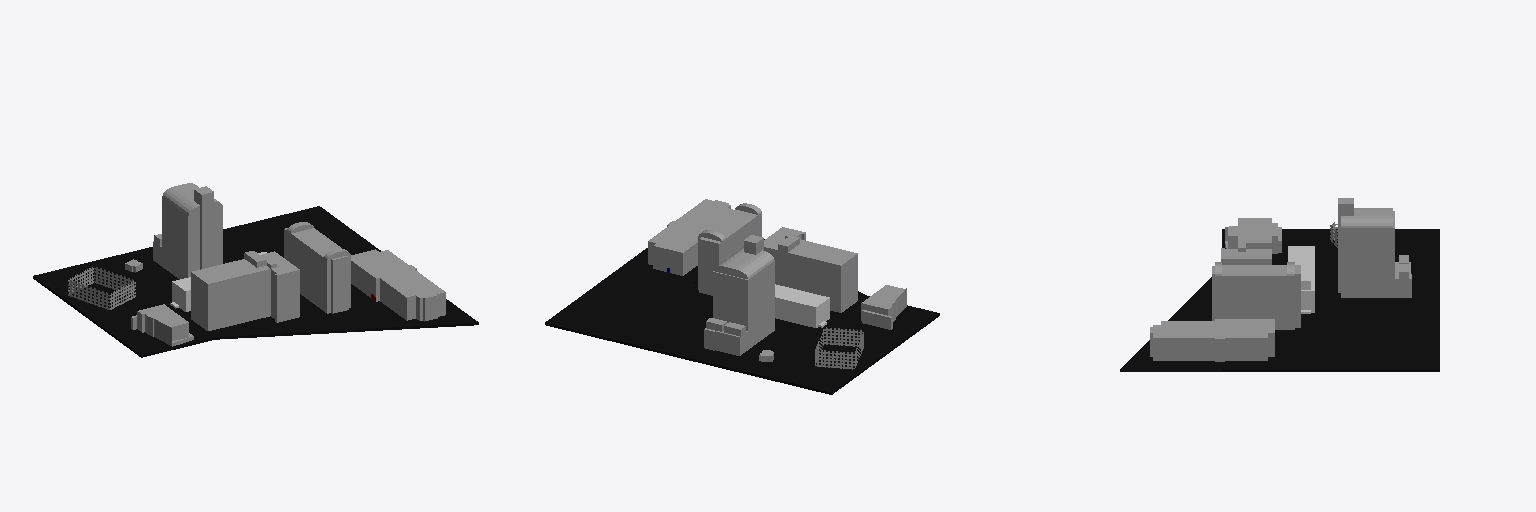
The model's file is free_map9.obj.
The picture shows the model from 3 angles: view 1: azimuth 30°, elevation 25°; view 2: azimuth 150°, elevation 25°; view 3: azimuth 270°, elevation 25°; orthographic projection.
Parts seen in each view (by area): view 1: Cube.009, Cube.004, Cube.006, Cube.001, Cube.002, Cube.005, Cube.008, Cube.003; view 2: Cube.009, Cube.006, Cube.004, Cube.001, Cube.002, Cube.003, Cube.005, Cube.008; view 3: Cube.009, Cube.006, Cube.002, Cube.001, Cube.004, Cube.003, Cube.005.
Boxes of the visible parts, x1=… form: Cube.009: x1=33, y1=206, x2=478, y2=357; Cube.004: x1=191, y1=251, x2=299, y2=330; Cube.006: x1=153, y1=183, x2=222, y2=279; Cube.001: x1=351, y1=249, x2=445, y2=321; Cube.002: x1=284, y1=222, x2=350, y2=313; Cube.005: x1=131, y1=304, x2=193, y2=346; Cube.008: x1=68, y1=267, x2=135, y2=309; Cube.003: x1=170, y1=252, x2=266, y2=311; Cube.009: x1=545, y1=239, x2=939, y2=394; Cube.006: x1=704, y1=235, x2=774, y2=355; Cube.004: x1=764, y1=227, x2=857, y2=312; Cube.001: x1=648, y1=199, x2=733, y2=275; Cube.002: x1=698, y1=203, x2=761, y2=295; Cube.003: x1=775, y1=284, x2=829, y2=327; Cube.005: x1=861, y1=285, x2=906, y2=329; Cube.008: x1=815, y1=327, x2=863, y2=369; Cube.009: x1=1120, y1=229, x2=1439, y2=371; Cube.006: x1=1338, y1=198, x2=1411, y2=297; Cube.002: x1=1212, y1=262, x2=1300, y2=329; Cube.001: x1=1150, y1=319, x2=1274, y2=361; Cube.004: x1=1221, y1=218, x2=1271, y2=264; Cube.003: x1=1288, y1=246, x2=1314, y2=313; Cube.005: x1=1225, y1=223, x2=1281, y2=253.
Size of the model in its own units: 246 by 75.13 by 237.